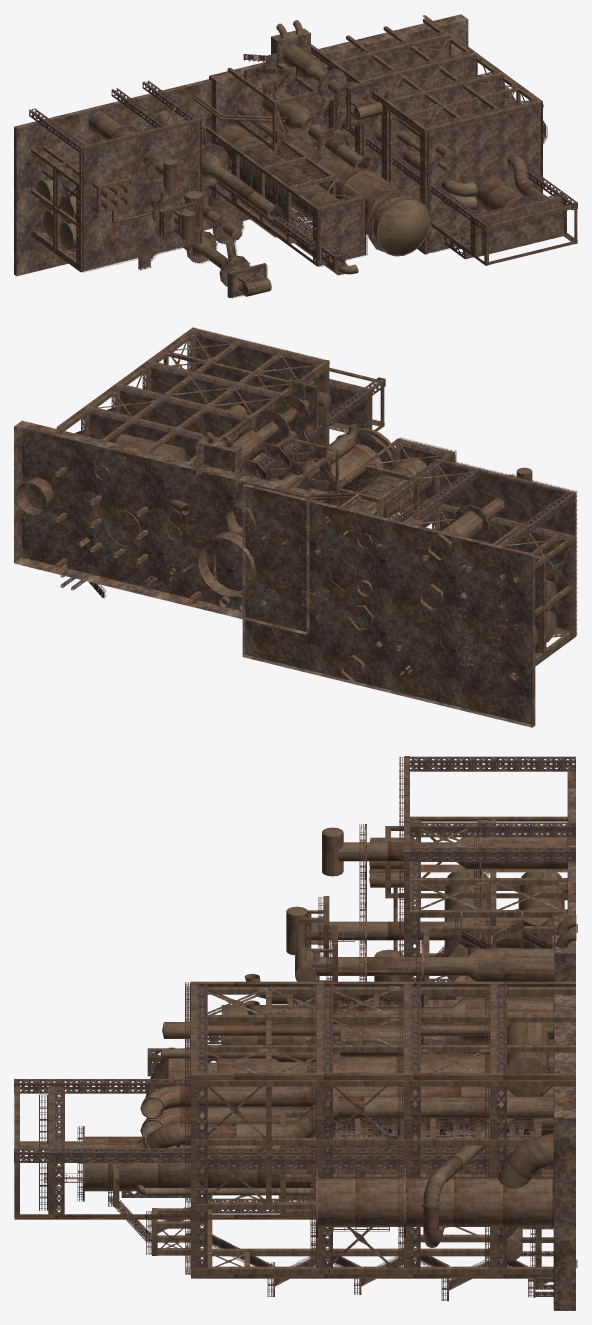
The picture shows the model from 3 angles, top to bottom: view 1: azimuth 30°, elevation 25°; view 2: azimuth 150°, elevation 25°; view 3: azimuth 270°, elevation 25°; orthographic projection. The views are drawn at different scales.
Visible parts, largest first — view 1: LOD0_2_building, LOD0_1_building, LOD0_0_building, LOD0_4_building, LOD0_3_building; view 2: LOD0_2_building, LOD0_1_building, LOD0_0_building, LOD0_4_building, LOD0_3_building; view 3: LOD0_1_building, LOD0_0_building, LOD0_4_building, LOD0_2_building, LOD0_3_building.
Boxes of the visible parts, <box> form: LOD0_2_building: <box>14,14,563,294</box>; LOD0_1_building: <box>31,15,577,298</box>; LOD0_0_building: <box>29,31,577,282</box>; LOD0_4_building: <box>55,36,566,298</box>; LOD0_3_building: <box>239,142,330,238</box>; LOD0_2_building: <box>14,333,573,727</box>; LOD0_1_building: <box>16,327,576,697</box>; LOD0_0_building: <box>60,330,574,675</box>; LOD0_4_building: <box>75,328,577,670</box>; LOD0_3_building: <box>323,470,413,521</box>; LOD0_1_building: <box>14,756,576,1278</box>; LOD0_0_building: <box>14,756,575,1296</box>; LOD0_4_building: <box>39,757,577,1301</box>; LOD0_2_building: <box>553,767,575,1310</box>; LOD0_3_building: <box>293,994,533,1174</box>.
Bounding box in the file's own units: 153 × 60.94 × 101.
